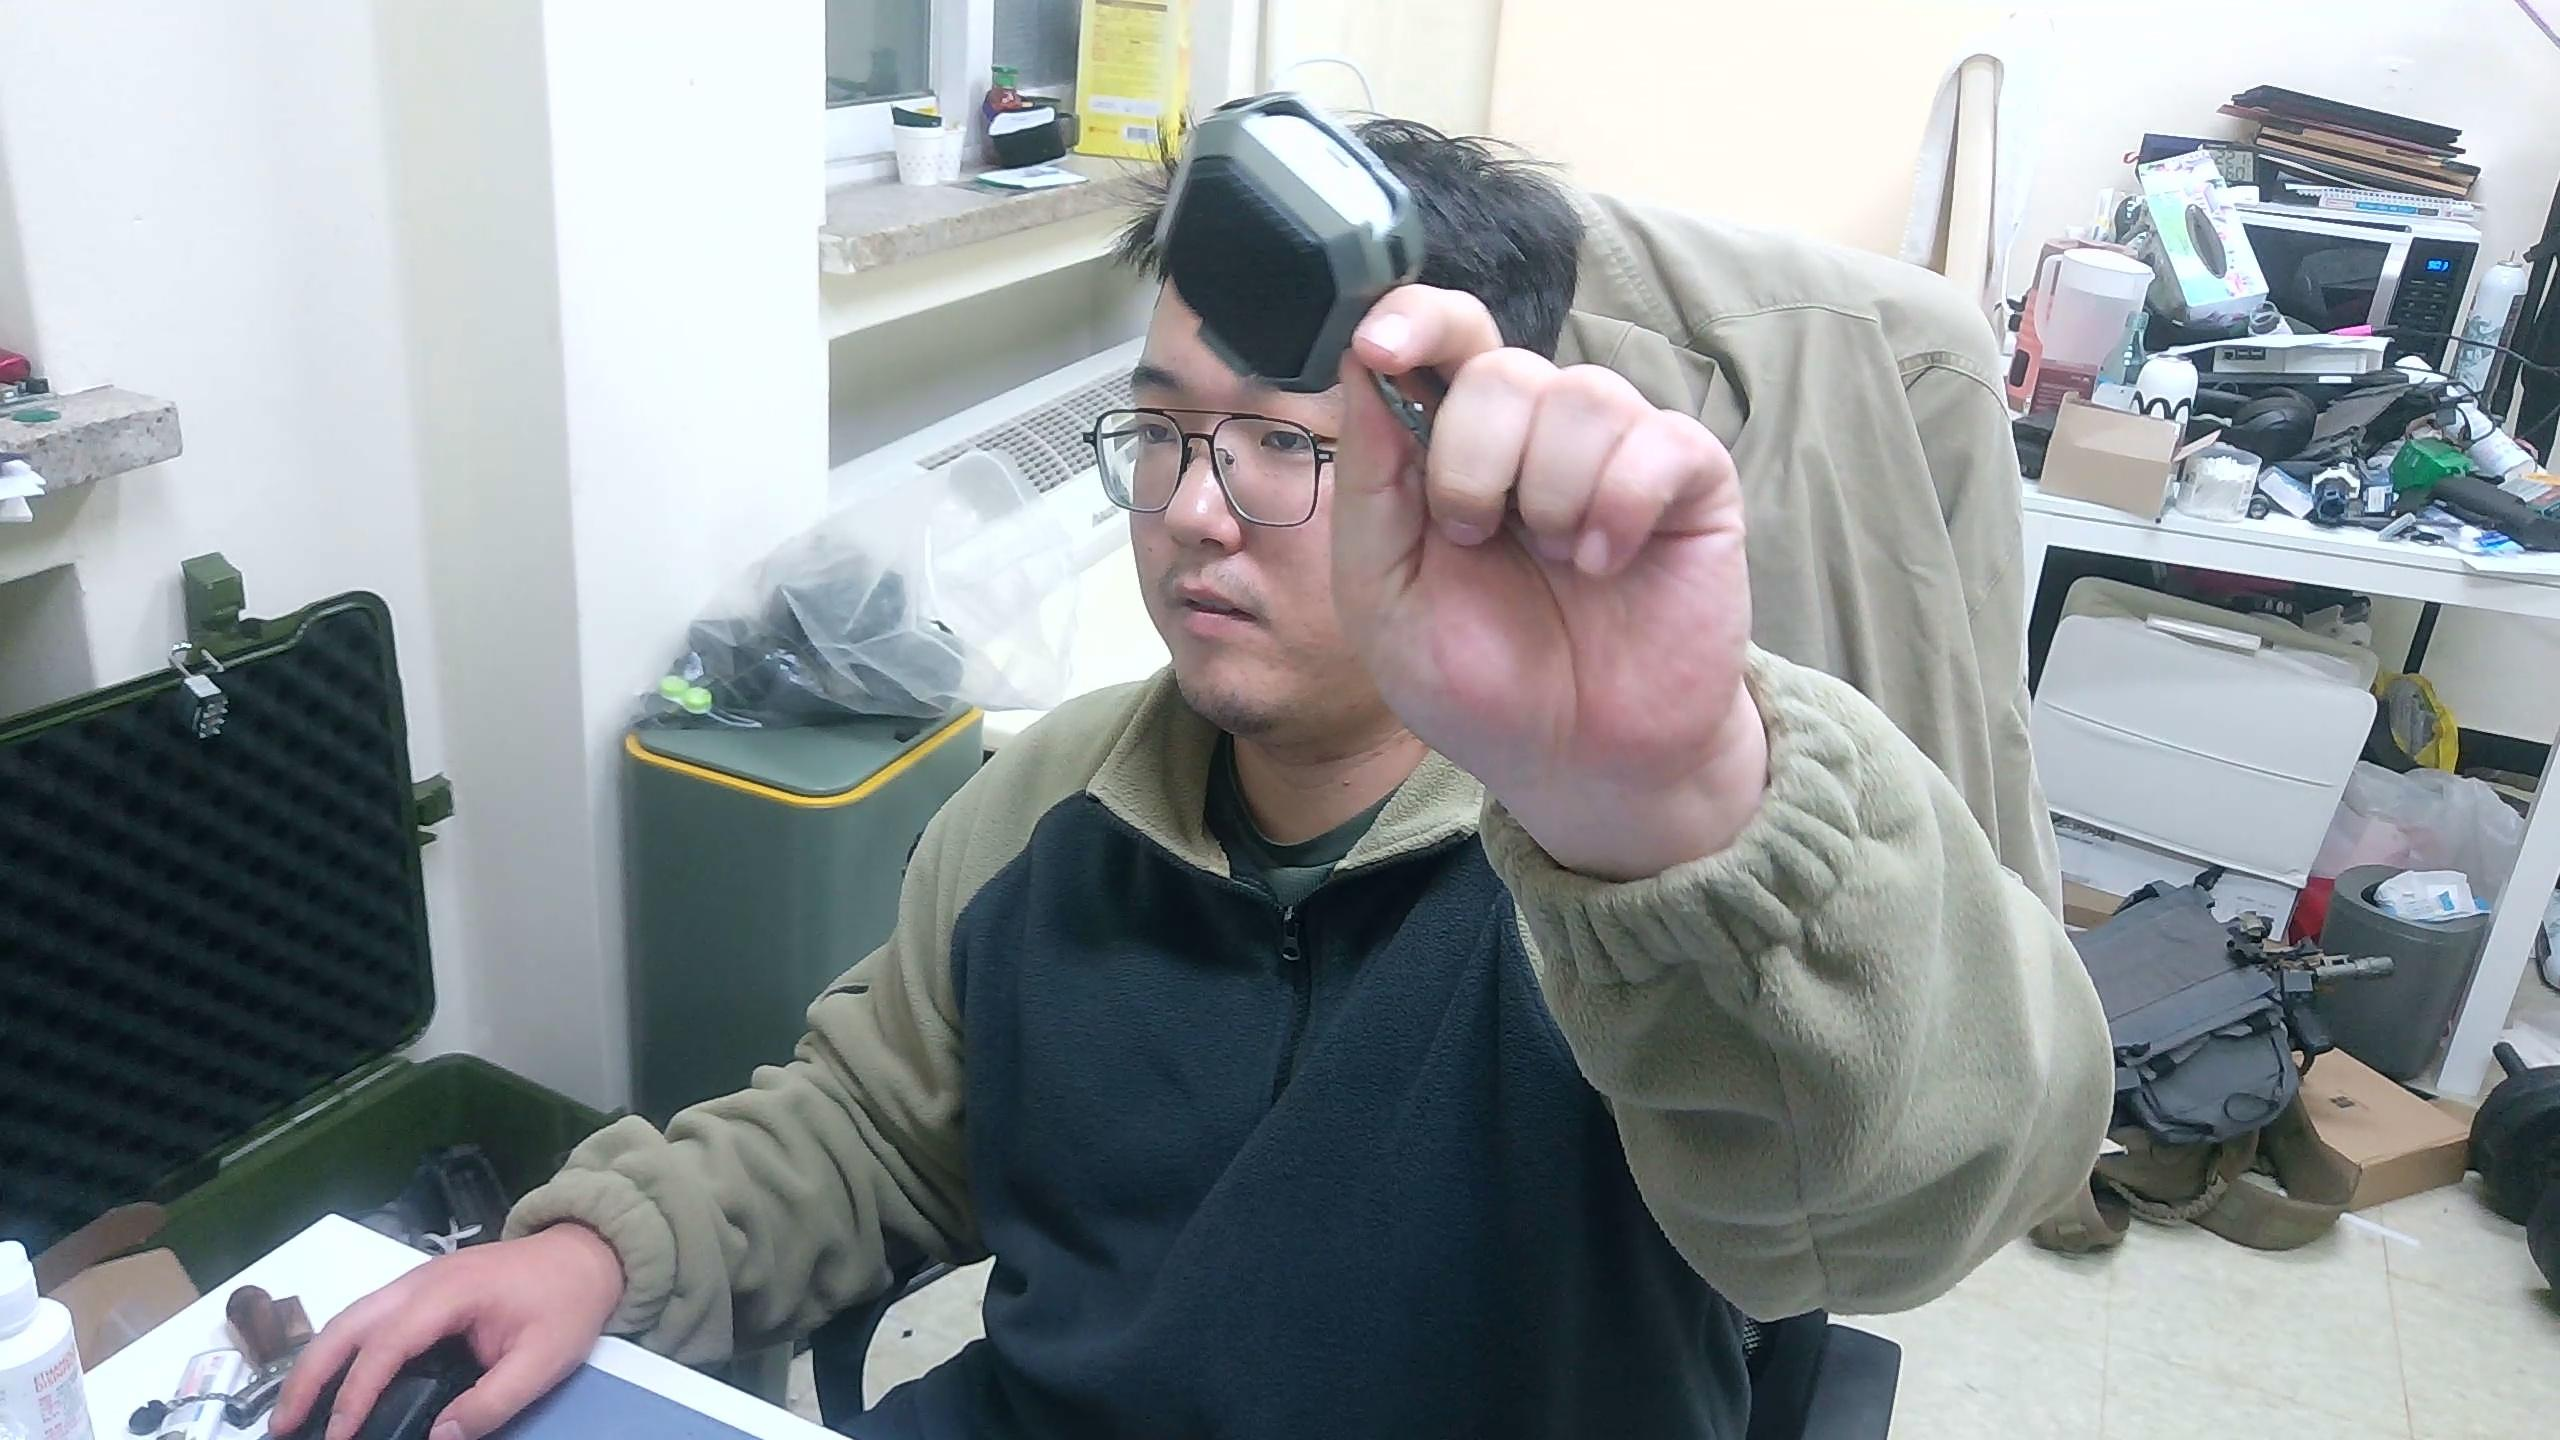blue_pliers: (1153, 88, 1438, 445)
